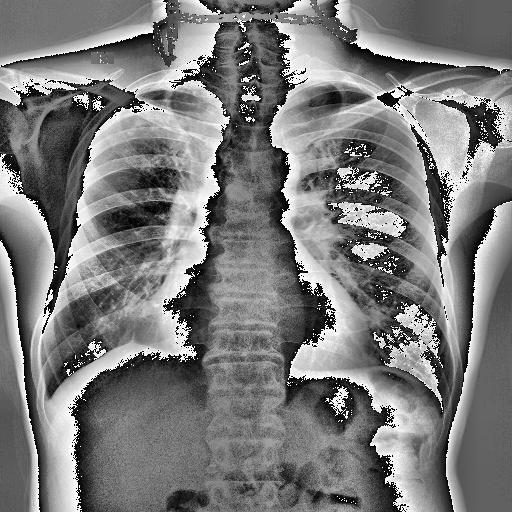0- Aortic enlargement: (252, 146, 302, 200)
11- Pleural thickening: (121, 334, 146, 348)
13- Pulmonary fibrosis: (121, 86, 211, 188), (108, 84, 202, 166), (130, 84, 224, 147)
3- Cardiomegaly: (156, 290, 372, 363)
9- Other lesion: (115, 330, 149, 360)
